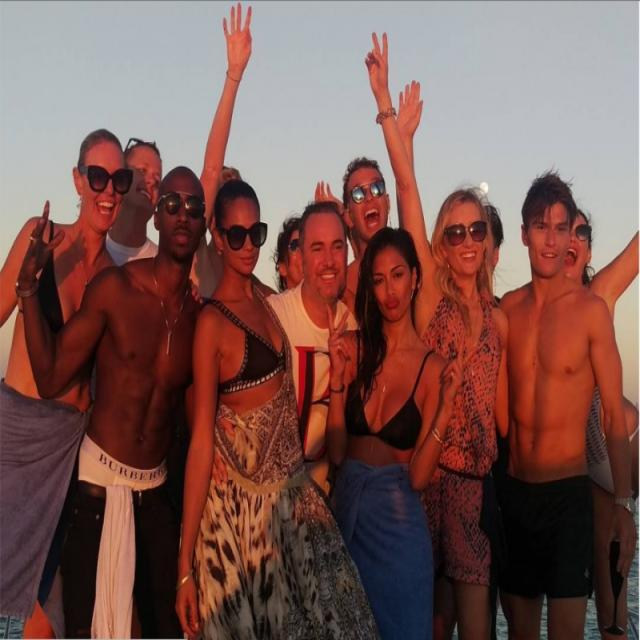body: (10, 163, 217, 639), (362, 22, 518, 639), (176, 170, 356, 639), (324, 218, 490, 639), (0, 126, 135, 639), (496, 175, 638, 634), (514, 190, 639, 639), (263, 198, 361, 495), (197, 0, 256, 177), (602, 379, 640, 622), (338, 151, 391, 301), (104, 134, 163, 266), (266, 203, 304, 286), (394, 77, 424, 156), (486, 194, 508, 291)
